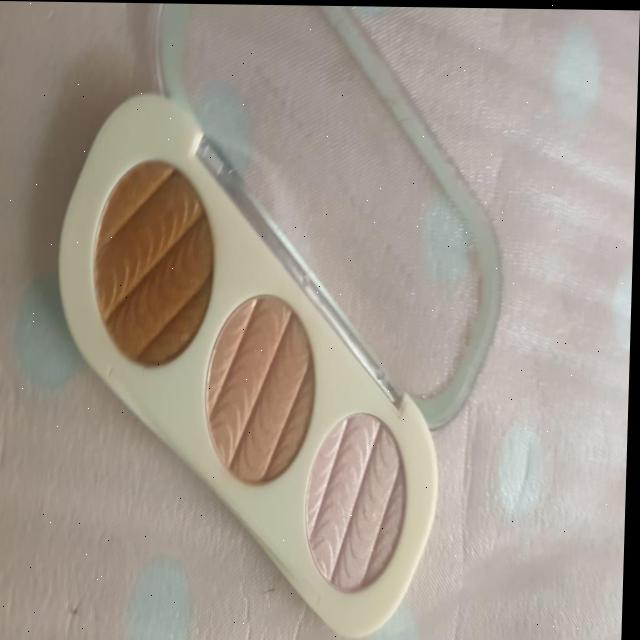eye shade: (89, 143, 229, 382)
highlighter: (195, 269, 322, 530), (297, 389, 420, 634)
